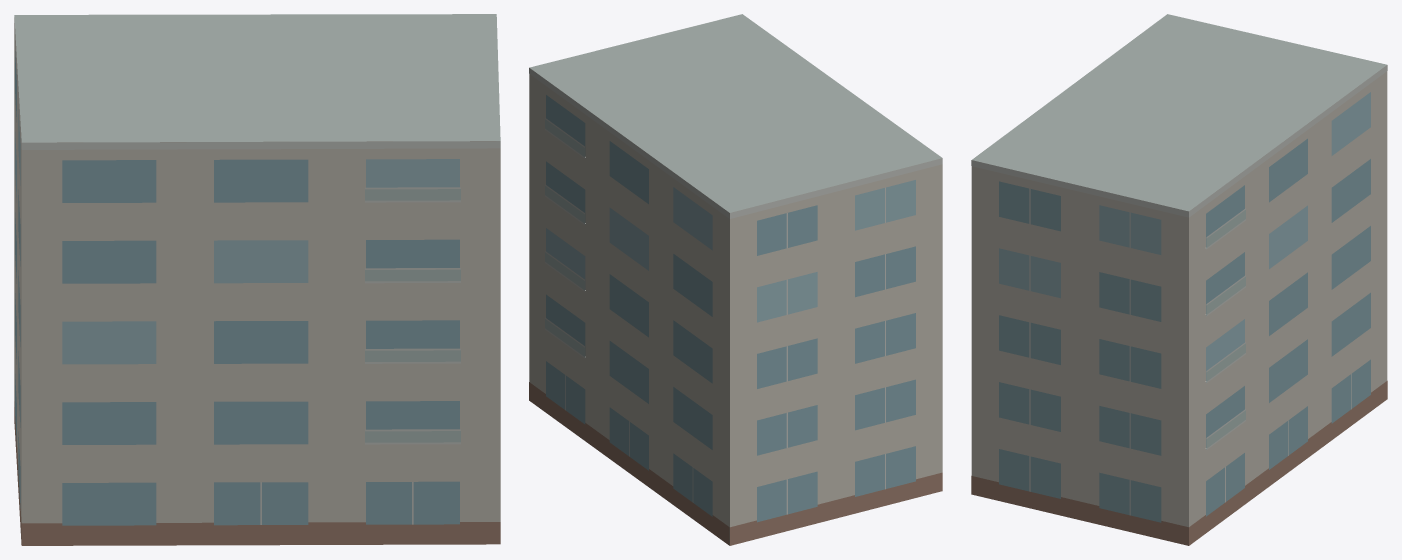
The model's file is survey-upis-32847876.glb.
3 views of the same model, side by side, from view 1: azimuth 30°, elevation 25°; view 2: azimuth 150°, elevation 25°; view 3: azimuth 270°, elevation 25° (orthographic). The views are drawn at different scales.
Parts seen in each view (by area): view 1: survey-upis-32847876.tmp; view 2: survey-upis-32847876.tmp; view 3: survey-upis-32847876.tmp.
Boxes of the visible parts, x1,y1,x2,y2 form: survey-upis-32847876.tmp: (14, 14, 500, 545); survey-upis-32847876.tmp: (529, 14, 942, 545); survey-upis-32847876.tmp: (971, 14, 1387, 545).
Size of the model in its own units: 16.79 by 13.25 by 14.94.
